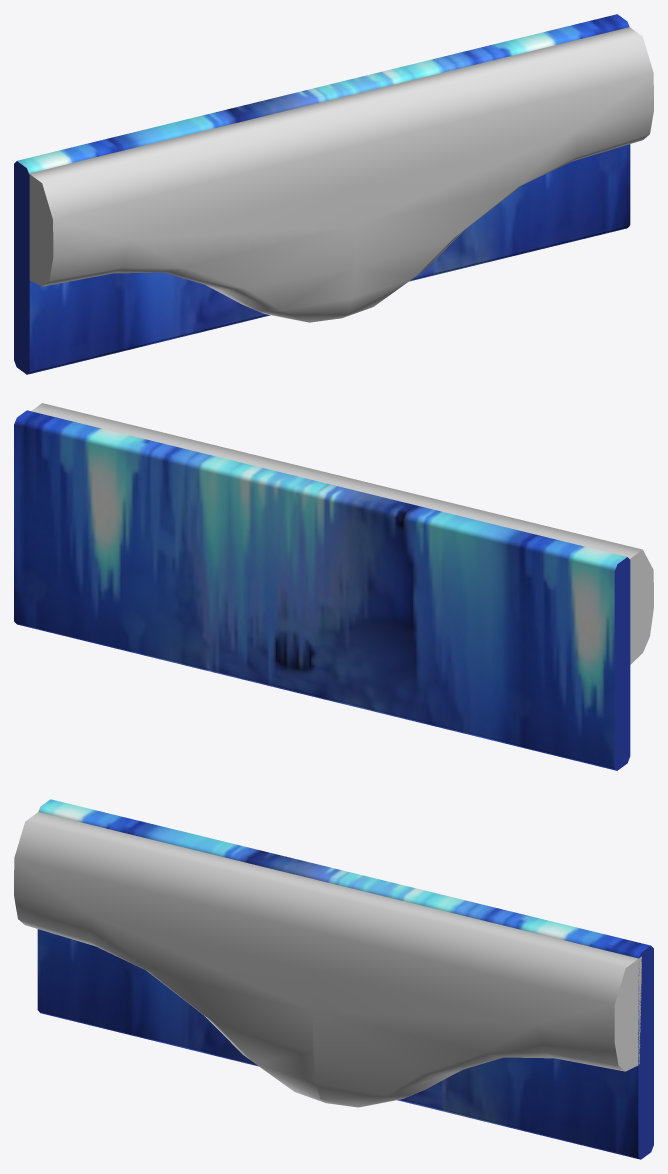
The model's file is door_up.DAE.
3 renders of one model, top to bottom at view 1: azimuth 30°, elevation 25°; view 2: azimuth 150°, elevation 25°; view 3: azimuth 330°, elevation 25°, orthographic.
Parts seen in each view (by area): view 1: door_up; view 2: door_up; view 3: door_up.
Boxes of the visible parts, bbox=[...] form: door_up: bbox=[14, 14, 653, 374]; door_up: bbox=[14, 403, 653, 770]; door_up: bbox=[14, 799, 653, 1159].
Bounding box in the file's own units: 2000 × 239 × 687.
1 material, 1 textured.
